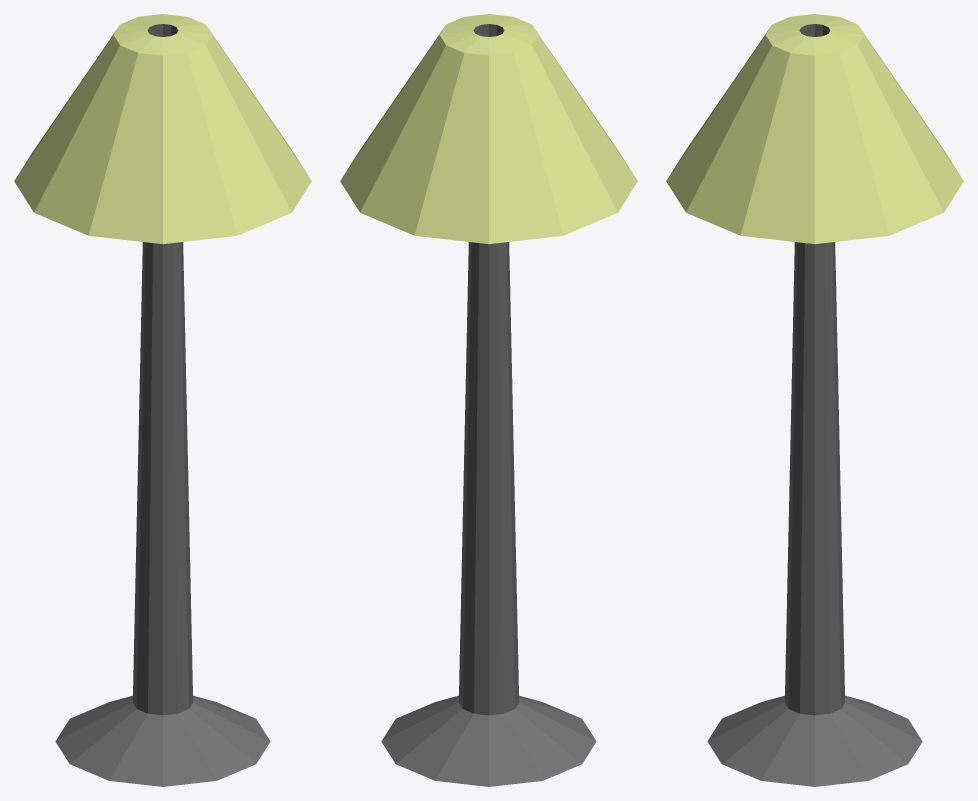
File: standing_lamp 1.fbx
The picture shows the model from 3 angles, left to right: view 1: azimuth 30°, elevation 25°; view 2: azimuth 150°, elevation 25°; view 3: azimuth 270°, elevation 25°; orthographic projection.
Parts seen in each view (by area): view 1: Cylinder; view 2: Cylinder; view 3: Cylinder.
Part boxes in pixels (left/top/right/bottom): Cylinder: left=14, top=14, right=311, bottom=786; Cylinder: left=340, top=14, right=637, bottom=786; Cylinder: left=666, top=14, right=963, bottom=786.
Bounding box in the file's own units: 152 × 401 × 152.
